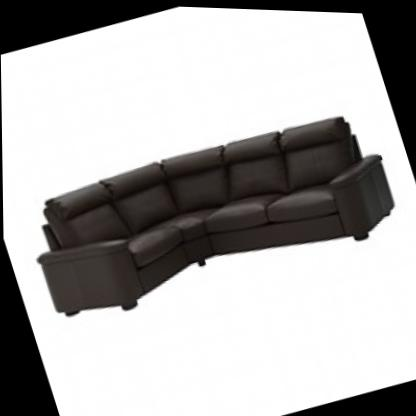Sofa: (3, 73, 416, 359)
